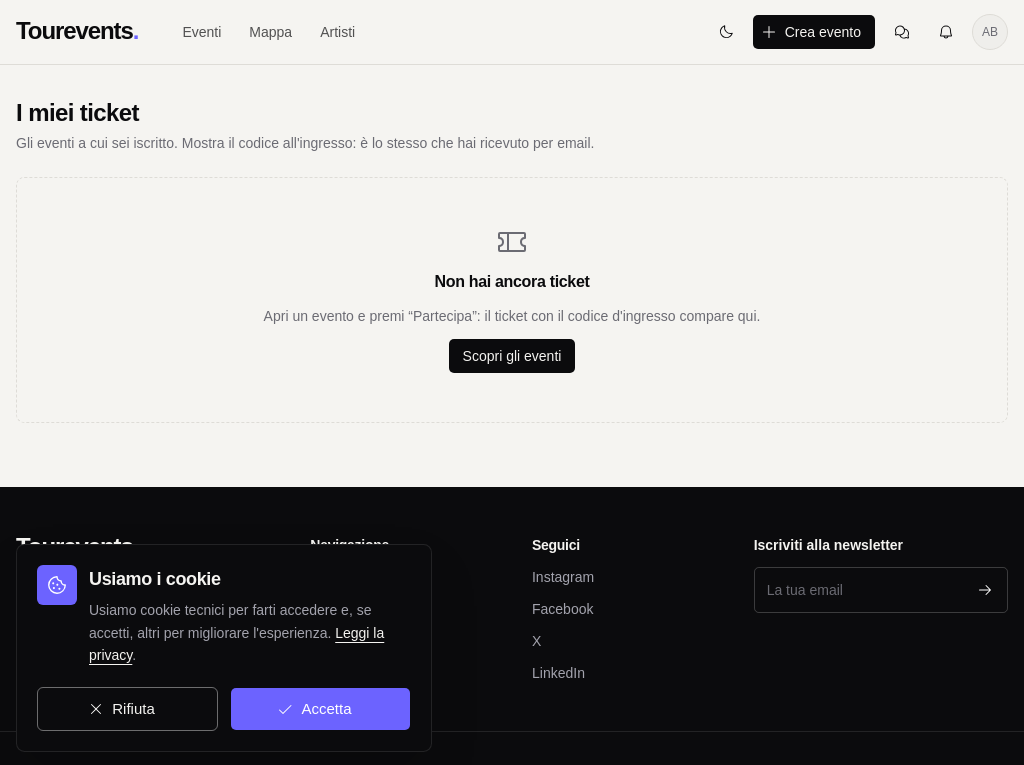
Test: guardie e layout › utente loggato vede la pagina protetta e il suo nome nel menu
Expected: the heading "I miei ticket" is shown, [16, 99, 139, 126]
What coordinates should you click on to do the following:
click the button with aria-label "Menu di Anna Bianchi"
I would click on:
 (990, 32)
Its box is [972, 14, 1008, 50].
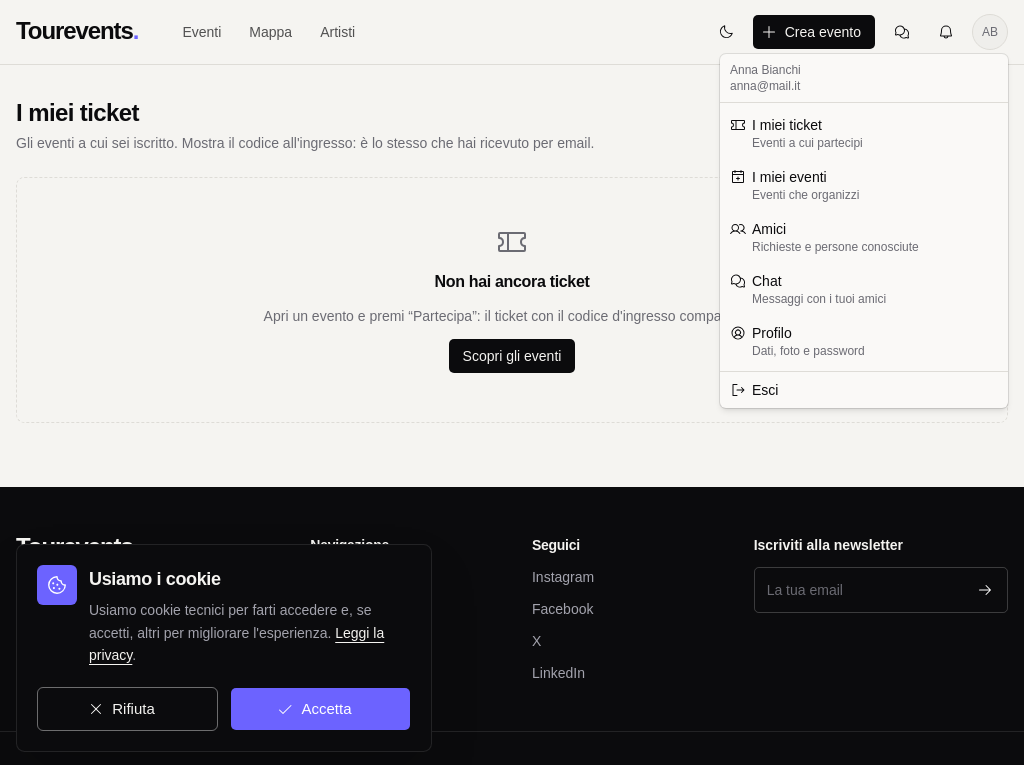
Expected: the menu item "Profilo Dati, foto e password" is shown, [730, 325, 865, 358]
